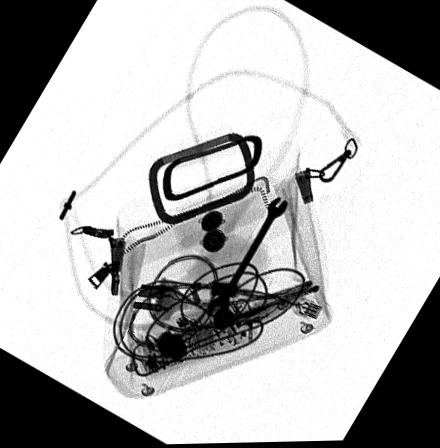Wrench: (203, 196, 289, 319)
